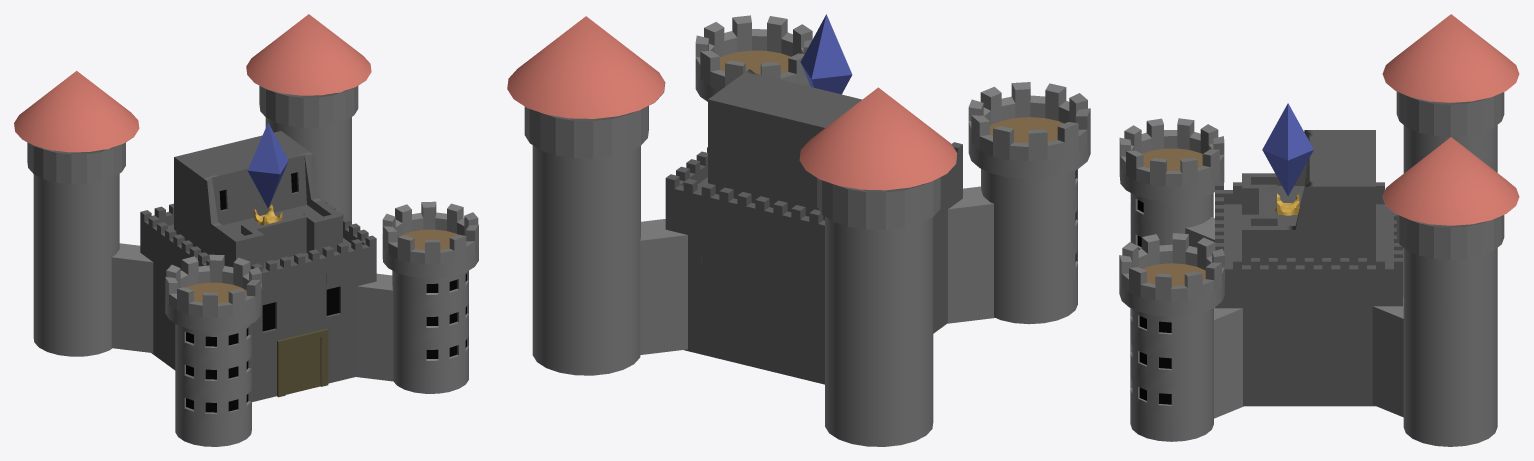
Rendered from castle.fbx.
3 views of the same model, side by side, from view 1: azimuth 30°, elevation 25°; view 2: azimuth 150°, elevation 25°; view 3: azimuth 270°, elevation 25° (orthographic). The views are drawn at different scales.
Visible parts, largest first — view 1: pCube8, pCylinder11, pCylinder9, pCylinder10, pCylinder12, pCone5, pCone4, pCube6, pCube4, pPyramid3; view 2: pCube8, pCylinder12, pCylinder11, pCylinder9, pCone5, pCone4, pCylinder10, pCube5, pCube3, pPyramid3; view 3: pCube8, pCylinder12, pCylinder10, pCylinder9, pCone4, pCone5, pCylinder11, pCube5, pCube4, pPyramid3, pCube3.
Part boxes in pixels (left/top/right/bottom): pCube8: left=140, top=131, right=376, bottom=401; pCylinder11: left=15, top=132, right=133, bottom=356; pCylinder9: left=165, top=254, right=261, bottom=446; pCylinder10: left=382, top=201, right=478, bottom=393; pCylinder12: left=247, top=75, right=364, bottom=219; pCone5: left=246, top=14, right=371, bottom=95; pCone4: left=14, top=70, right=139, bottom=152; pCube6: left=111, top=243, right=153, bottom=352; pCube4: left=356, top=273, right=392, bottom=381; pPyramid3: left=247, top=122, right=288, bottom=208; pCube8: left=665, top=69, right=962, bottom=384; pCylinder12: left=524, top=72, right=665, bottom=375; pCylinder11: left=817, top=144, right=957, bottom=446; pCylinder9: left=968, top=82, right=1090, bottom=324; pCone5: left=507, top=16, right=664, bottom=118; pCone4: left=799, top=87, right=957, bottom=190; pCylinder10: left=695, top=15, right=812, bottom=101; pCube5: left=640, top=219, right=687, bottom=354; pCube3: left=948, top=186, right=994, bottom=323; pPyramid3: left=800, top=14, right=852, bottom=94; pCube8: left=1215, top=130, right=1402, bottom=406; pCylinder12: left=1382, top=188, right=1504, bottom=446; pCylinder10: left=1119, top=233, right=1224, bottom=441; pCylinder9: left=1119, top=118, right=1224, bottom=249; pCone4: left=1383, top=14, right=1519, bottom=102; pCone5: left=1383, top=137, right=1519, bottom=225; pCylinder11: left=1382, top=57, right=1504, bottom=173; pCube5: left=1372, top=297, right=1403, bottom=417; pCube4: left=1214, top=307, right=1243, bottom=418; pPyramid3: left=1262, top=103, right=1313, bottom=196; pCube3: left=1185, top=217, right=1214, bottom=247.
Size of the model in its own units: 18.23 by 13.71 by 17.05.
